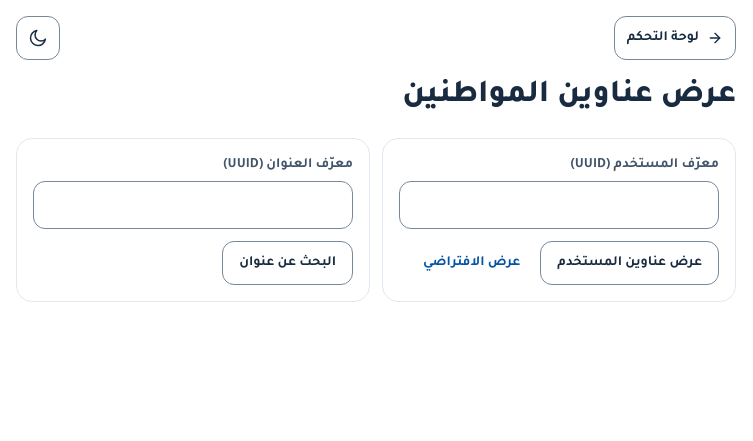
Test case: admin address UI with mocked HTTP › shows an absent default as empty and an unknown address as an error
Type "9b1deb4d-3b7d-4bad-9bdd-2b0d7b3dcb6d" into the field labelled "معرّف المستخدم (UUID)" at x=559, y=205, box x1=399 y1=181 x2=719 y2=229
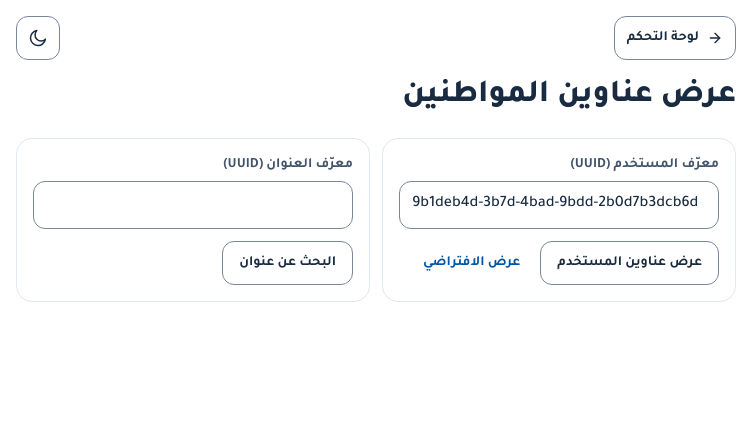
Click the button "عرض الافتراضي" at x=472, y=263, box x1=411 y1=241 x2=532 y2=285
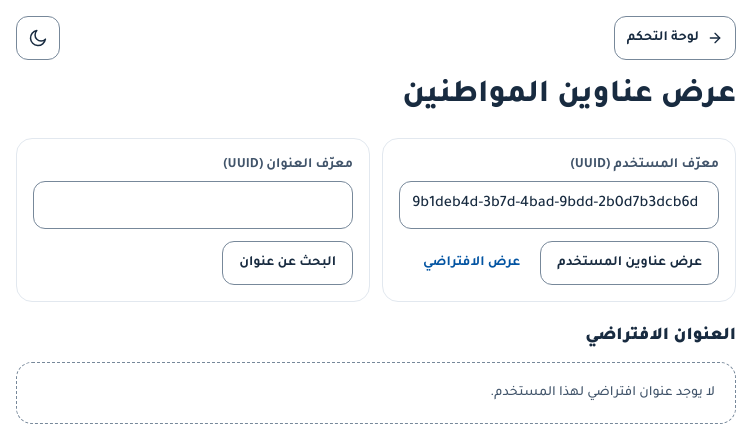
Expected: the text "لا يوجد عنوان افتراضي لهذا المستخدم." is shown, x1=16 y1=362 x2=736 y2=424
Type "c1a2b3c4-d5e6-7f8a-9b0c-1d2e3f4a5b6c" into the field labelled "معرّف العنوان (UUID)" at x=193, y=205, box x1=33 y1=181 x2=353 y2=229
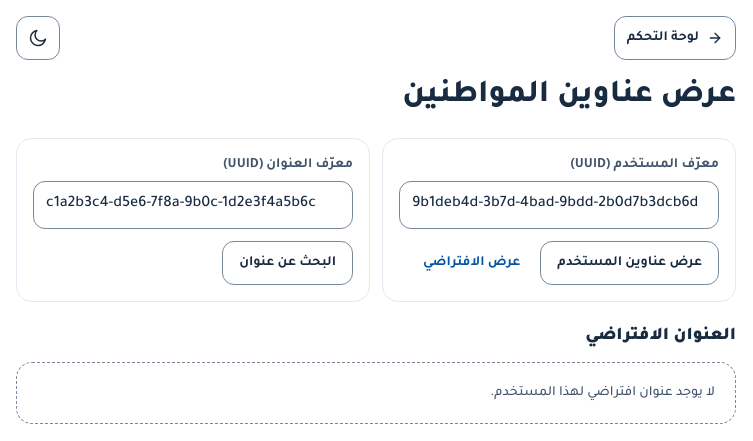
Click the button "البحث عن عنوان" at x=288, y=263, box x1=222 y1=241 x2=353 y2=285
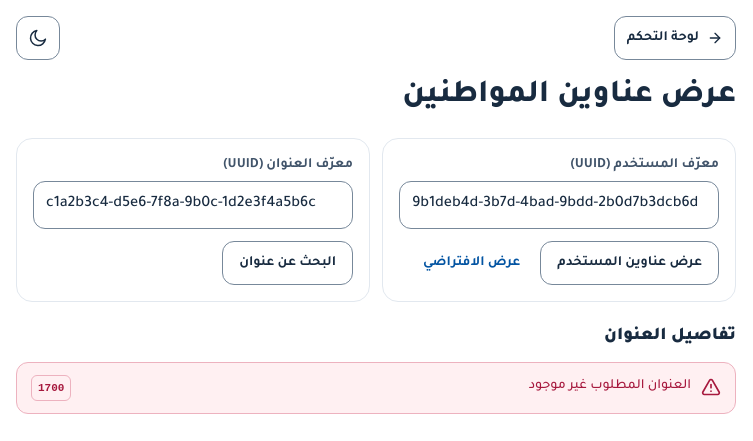
Expected: the message shows "العنوان المطلوب غير موجود", x1=529 y1=379 x2=691 y2=393
